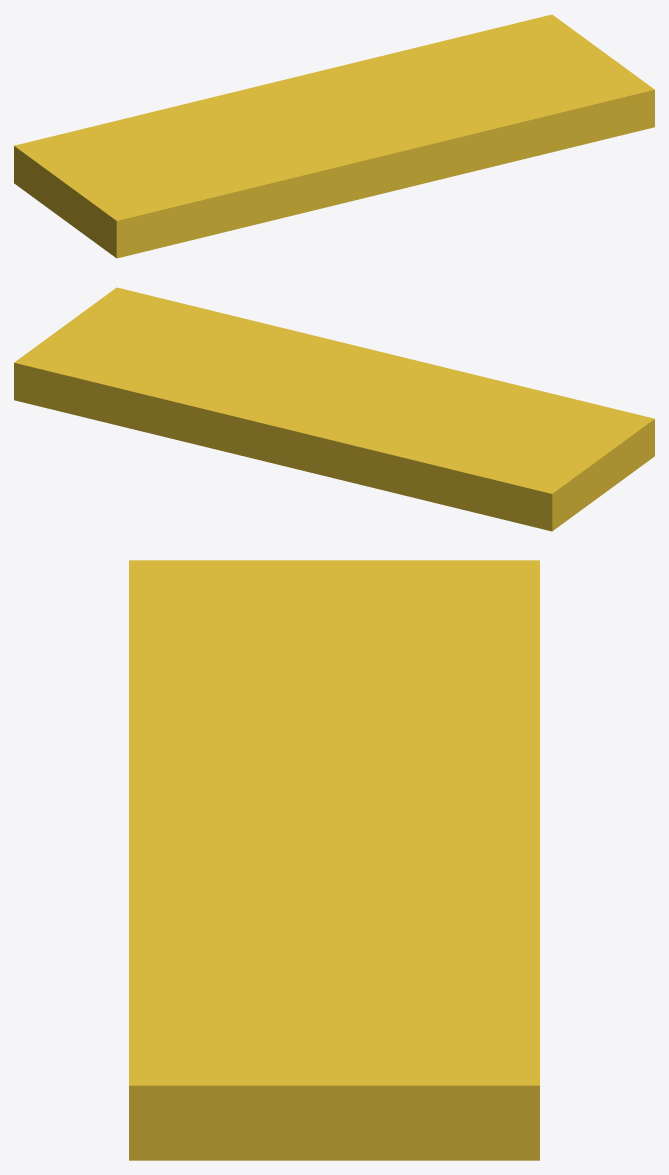
The model's file is Floor_A_LineConnect_B.FBX.
3 views of the same model, one above another, from view 1: azimuth 30°, elevation 25°; view 2: azimuth 150°, elevation 25°; view 3: azimuth 270°, elevation 25° (orthographic). The views are drawn at different scales.
Visible parts, largest first — view 1: Floor_A_LineConnect_B; view 2: Floor_A_LineConnect_B; view 3: Floor_A_LineConnect_B.
Part boxes in pixels (left/top/right/bottom): Floor_A_LineConnect_B: left=14, top=14, right=654, bottom=258; Floor_A_LineConnect_B: left=14, top=287, right=654, bottom=531; Floor_A_LineConnect_B: left=129, top=560, right=539, bottom=1160.
Size of the model in its own units: 300 by 20 by 99.27.
